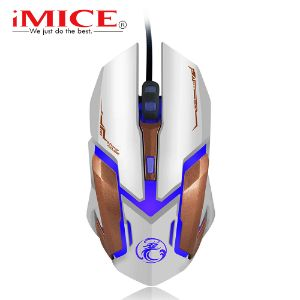mouse: (87, 39, 219, 287)
